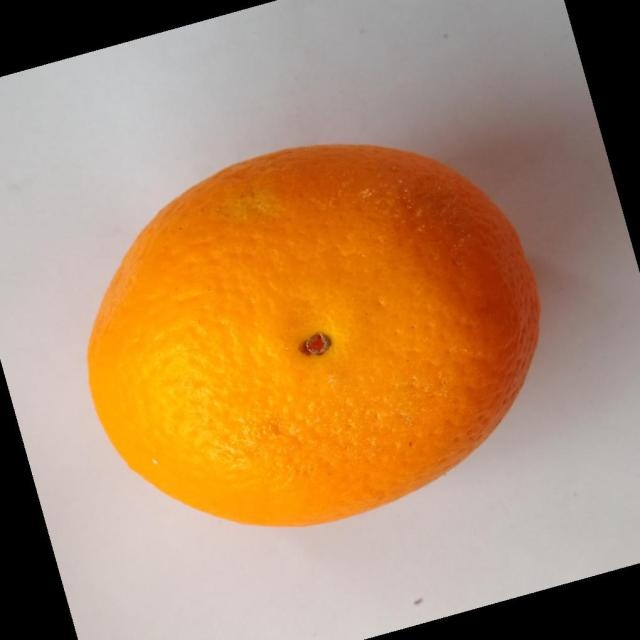agrume: (86, 141, 541, 528)
